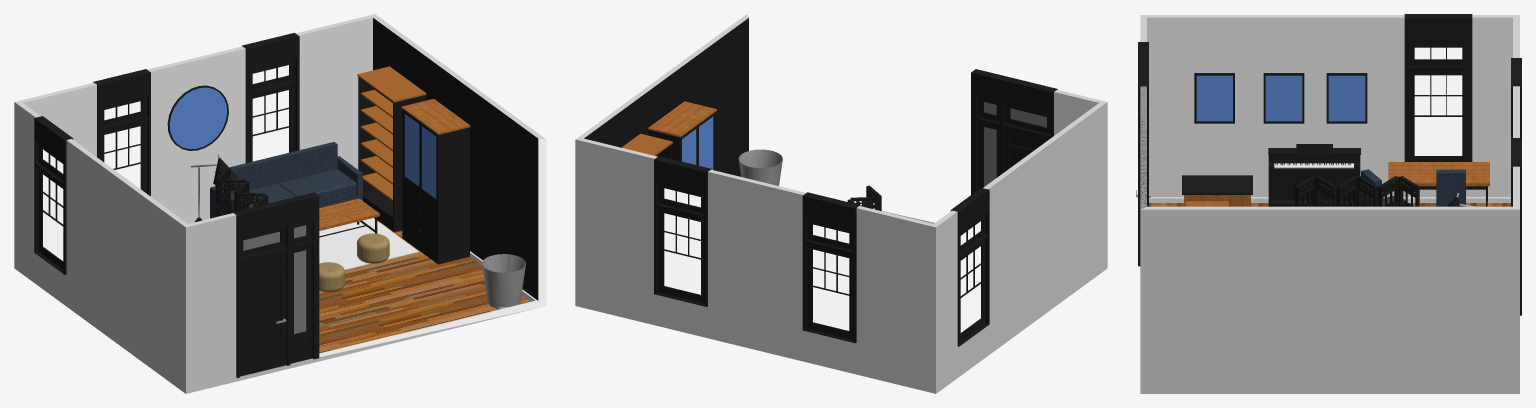
The model's file is room.glb.
3 renders of one model, left to right at view 1: azimuth 30°, elevation 25°; view 2: azimuth 150°, elevation 25°; view 3: azimuth 270°, elevation 25°, orthographic. The views are drawn at different scales.
Parts seen in each view (by area): view 1: room; view 2: room; view 3: room.
Boxes of the visible parts, x1,y1,x2,y2 form: room: [14, 14, 546, 393]; room: [575, 14, 1107, 393]; room: [1136, 14, 1521, 393].
Bounding box in the file's own units: 6.94 × 3.05 × 5.78.
12 materials, 6 textured.
